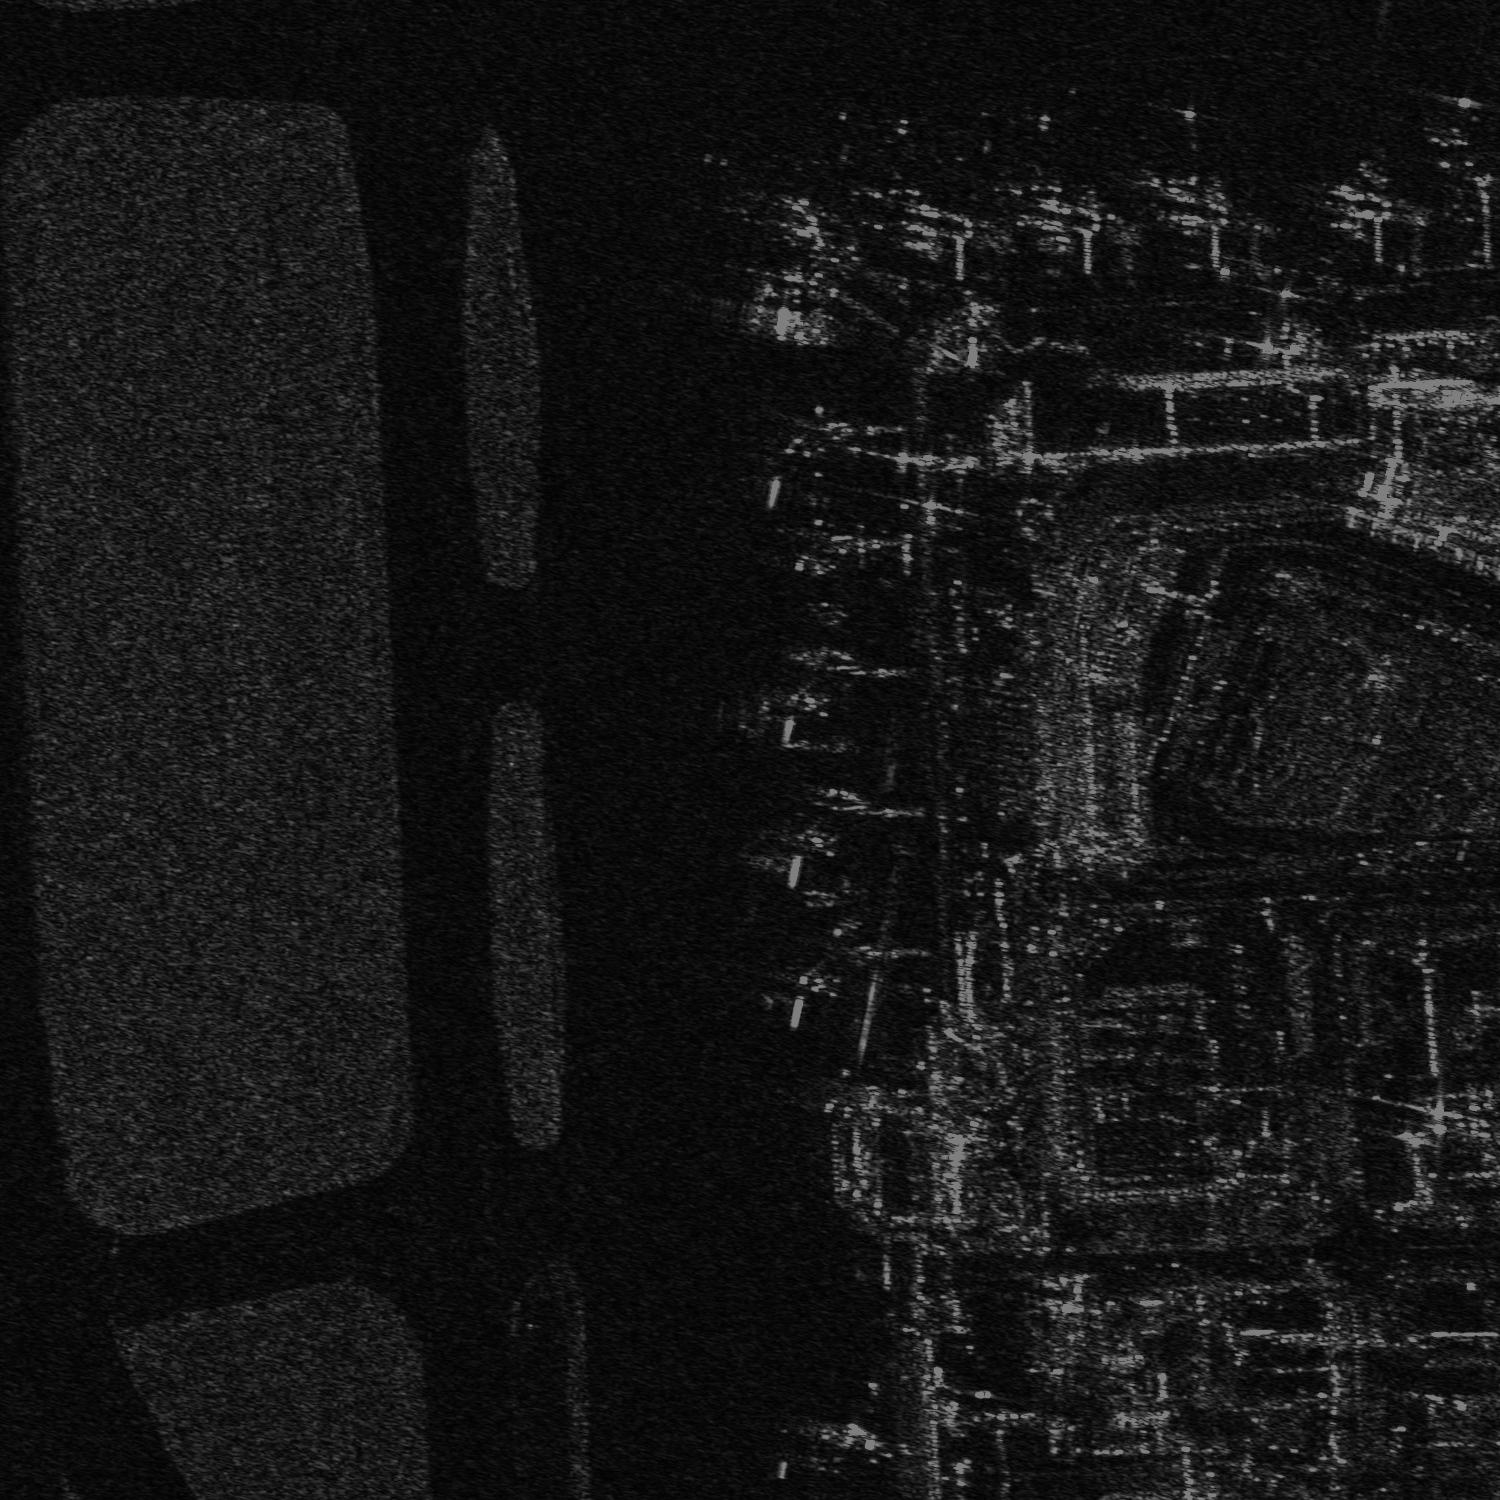A220: (766, 1412, 907, 1482), (1415, 89, 1499, 185)
